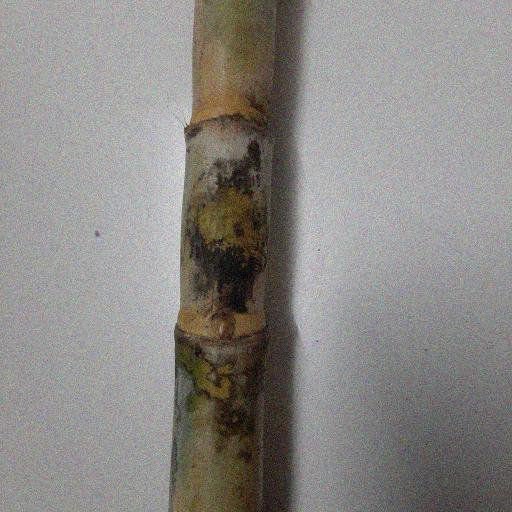Bud: (215, 315, 235, 339)
